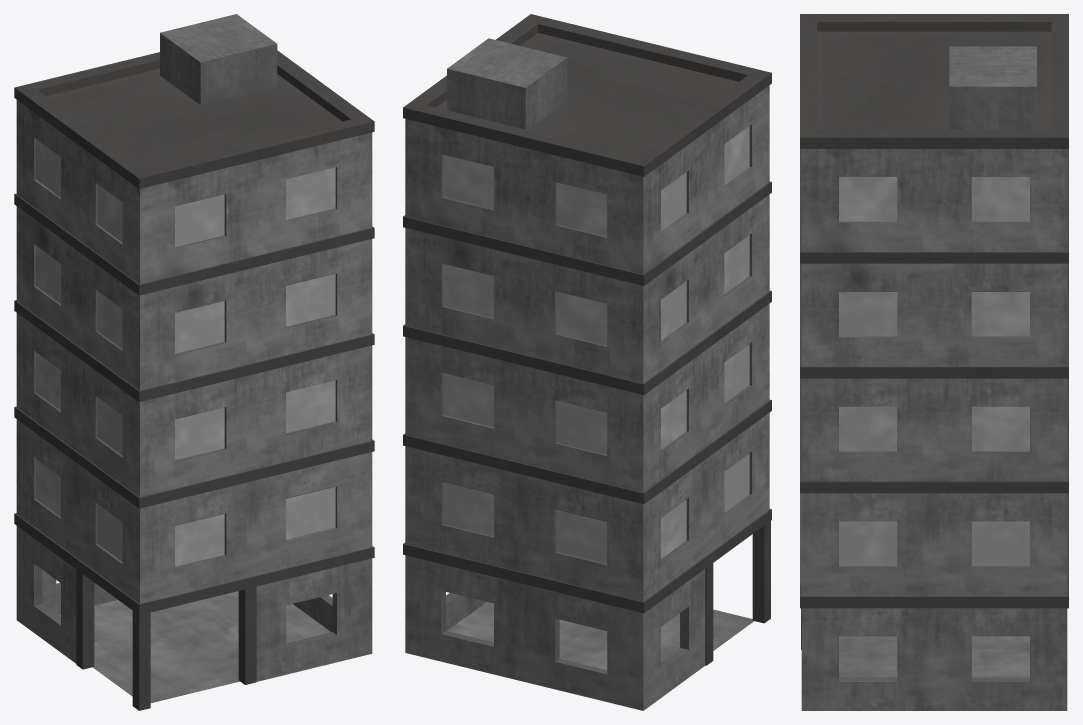
The model's file is building_1_2.fbx.
The picture shows the model from 3 angles, left to right: view 1: azimuth 30°, elevation 25°; view 2: azimuth 150°, elevation 25°; view 3: azimuth 270°, elevation 25°; orthographic projection. The views are drawn at different scales.
Parts seen in each view (by area): view 1: building1; view 2: building1; view 3: building1.
Boxes of the visible parts, box(x1,y1,x2,y2) form: building1: box(14, 14, 374, 710); building1: box(403, 14, 771, 710); building1: box(800, 14, 1068, 710).
Size of the model in its own units: 6.94 by 15.97 by 6.37.
1 material, 1 textured.
